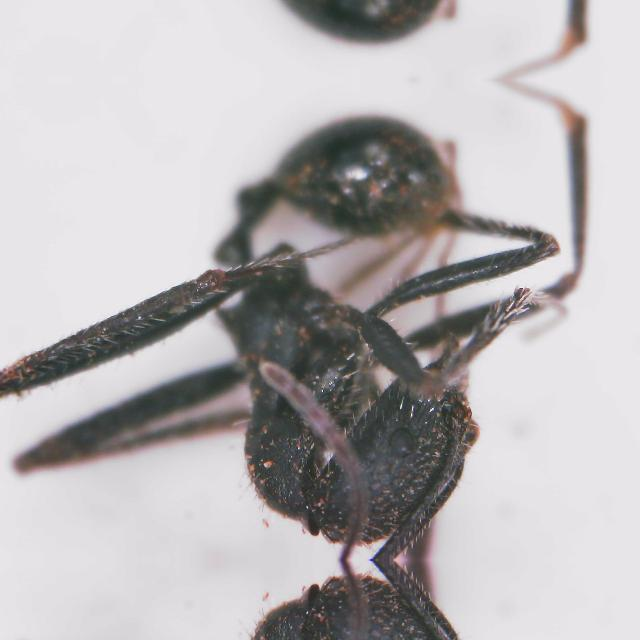Apheanogaster: (69, 90, 609, 560)
